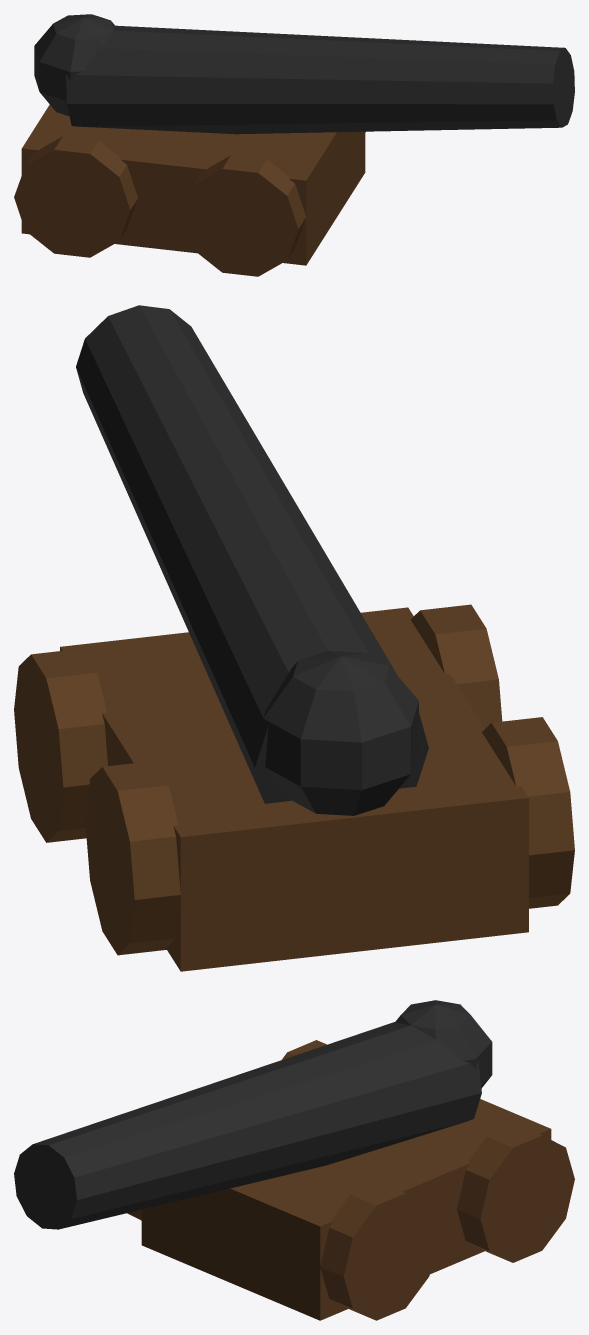
Rendered from canhao.glb.
The picture shows the model from 3 angles, top to bottom: view 1: azimuth 30°, elevation 25°; view 2: azimuth 150°, elevation 25°; view 3: azimuth 270°, elevation 25°; orthographic projection. The views are drawn at different scales.
Visible parts, largest first — view 1: canhao; view 2: canhao; view 3: canhao.
Boxes of the visible parts, bbox=[...] form: canhao: bbox=[14, 14, 574, 276]; canhao: bbox=[14, 305, 574, 971]; canhao: bbox=[14, 1000, 574, 1320].
Size of the model in its own units: 0.7552 by 0.3245 by 0.7552.
